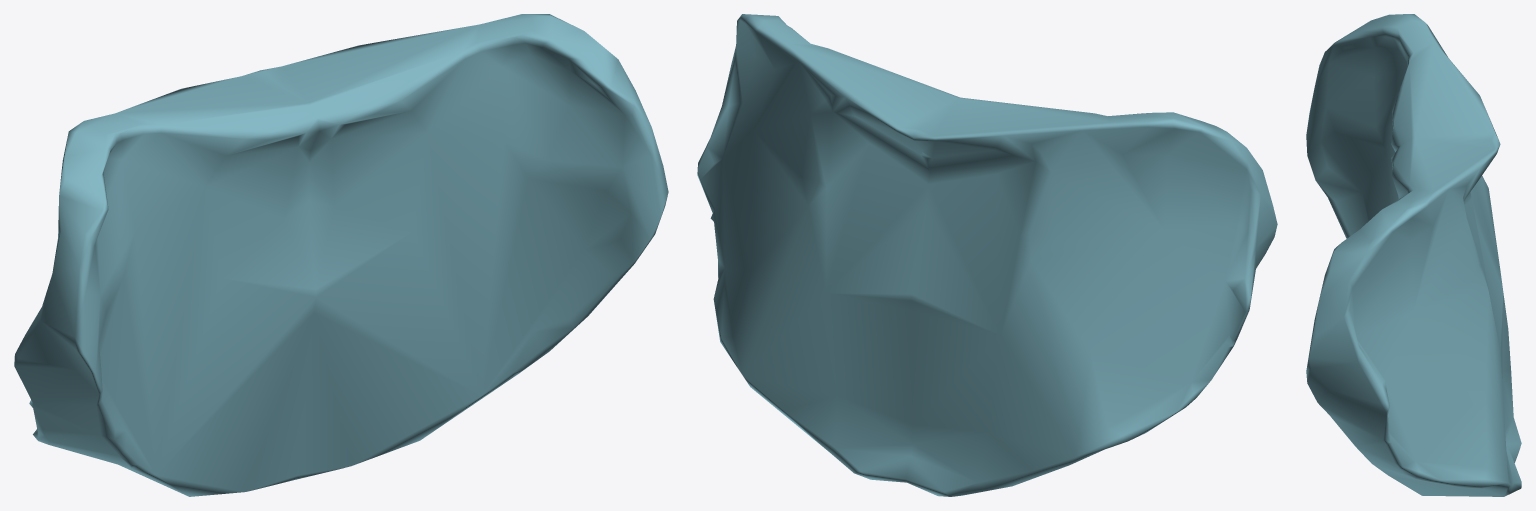
3 renders of one model, left to right at view 1: azimuth 30°, elevation 25°; view 2: azimuth 150°, elevation 25°; view 3: azimuth 270°, elevation 25°, orthographic. The views are drawn at different scales.
Parts seen in each view (by area): view 1: 颈3—颈4椎间盘; view 2: 颈3—颈4椎间盘; view 3: 颈3—颈4椎间盘.
Part boxes in pixels (x1,y1,x2,y2): 颈3—颈4椎间盘: [14, 14, 668, 496]; 颈3—颈4椎间盘: [697, 14, 1277, 496]; 颈3—颈4椎间盘: [1306, 14, 1521, 496].
Bounding box in the file's own units: 0.0357 × 0.0234 × 0.0127.
